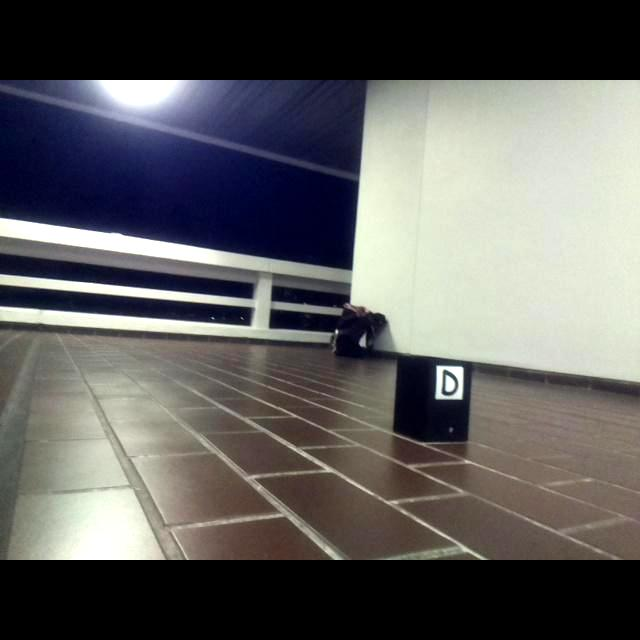D: (441, 368, 460, 397)
